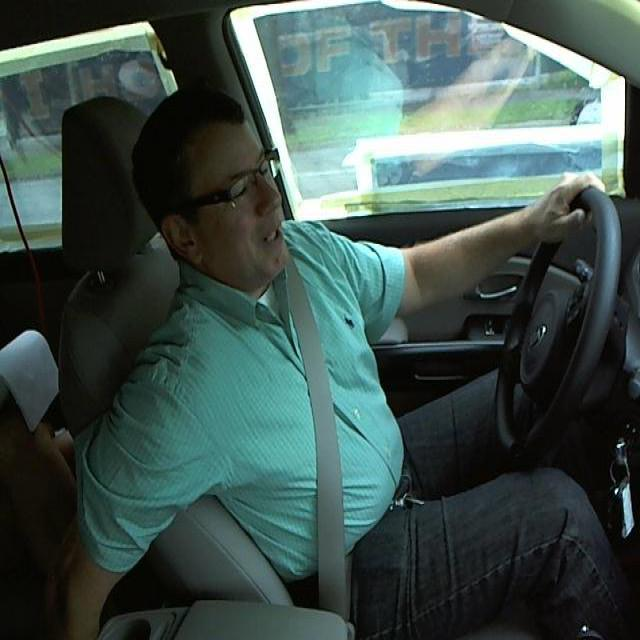seatbelt: (269, 276, 362, 609)
